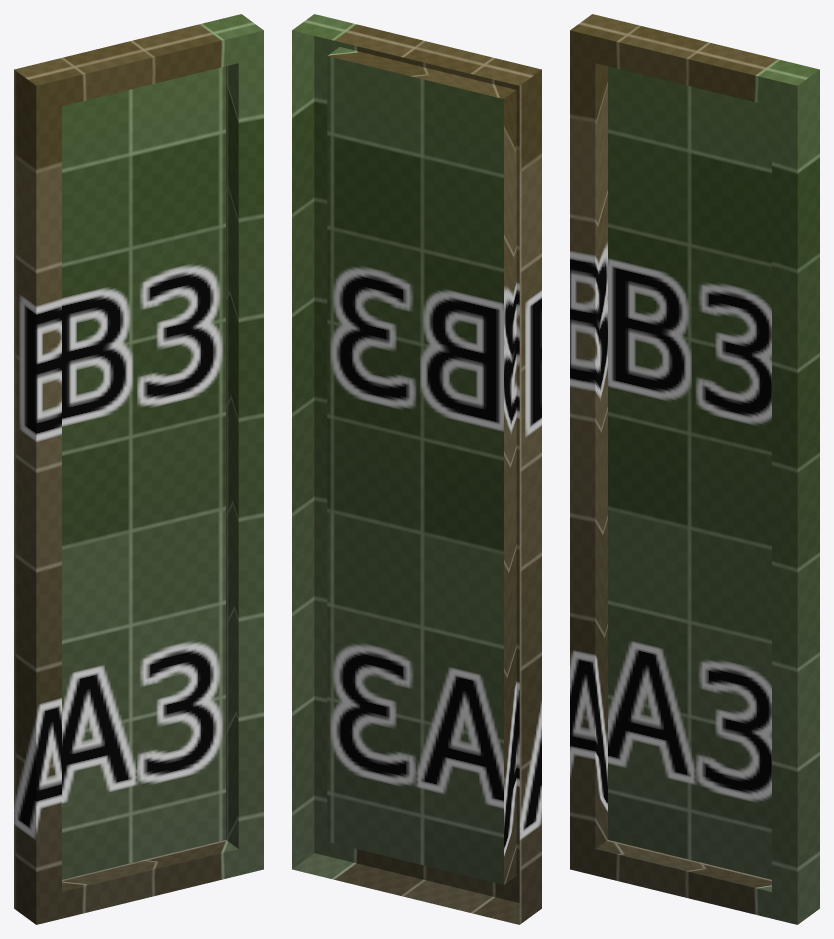
The model's file is JanelaAltaPequena.fbx.
3 views of the same model, side by side, from view 1: azimuth 30°, elevation 25°; view 2: azimuth 150°, elevation 25°; view 3: azimuth 330°, elevation 25° (orthographic).
Visible parts, largest first — view 1: JanelaAltaPequena; view 2: JanelaAltaPequena; view 3: JanelaAltaPequena.
Boxes of the visible parts, x1,y1,x2,y2 form: JanelaAltaPequena: (14,14,263,924); JanelaAltaPequena: (292,14,541,924); JanelaAltaPequena: (570,14,819,924).
Size of the model in its own units: 169 by 596 by 28.8.
